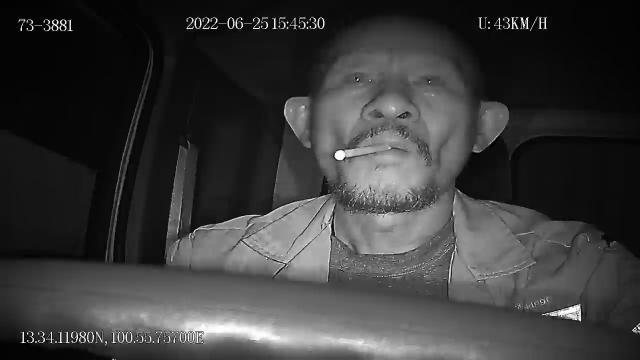SafeDriving: (404, 62, 452, 96), (339, 59, 383, 94)
Smoking: (334, 144, 392, 160)
